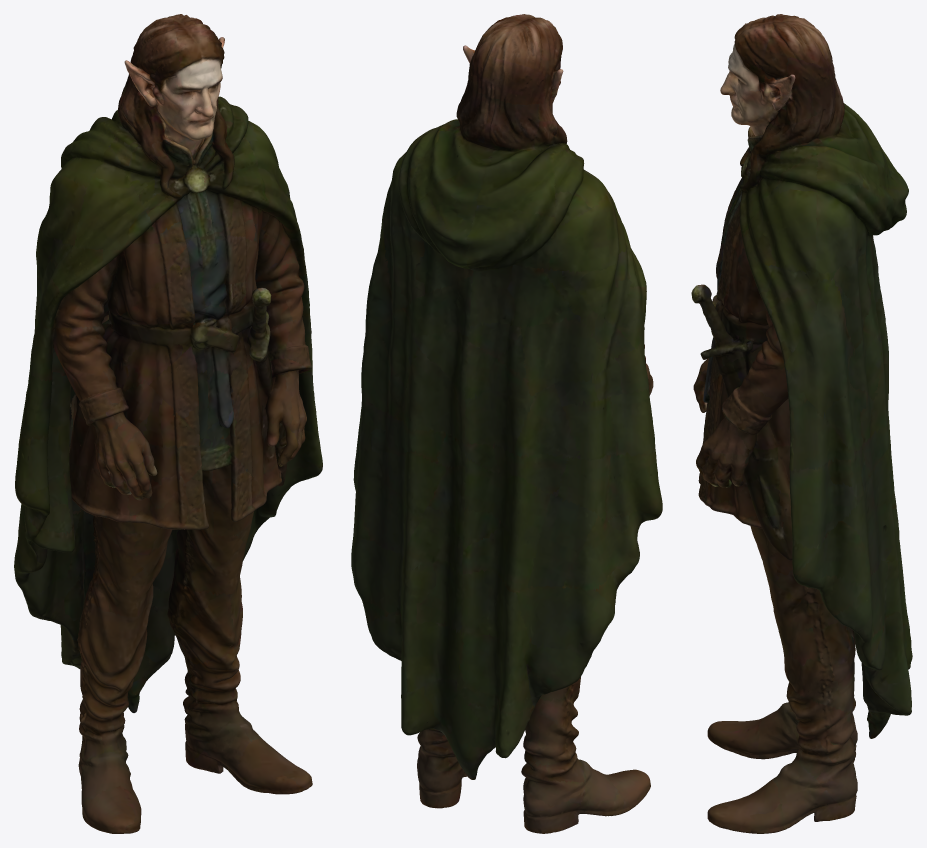
Rendered from elf2.glb.
The picture shows the model from 3 angles, left to right: view 1: azimuth 30°, elevation 25°; view 2: azimuth 150°, elevation 25°; view 3: azimuth 270°, elevation 25°; orthographic projection.
Bounding box in the file's own units: 0.7853 × 1.9 × 0.4974.
Materials: 1 (1 with a texture image).
